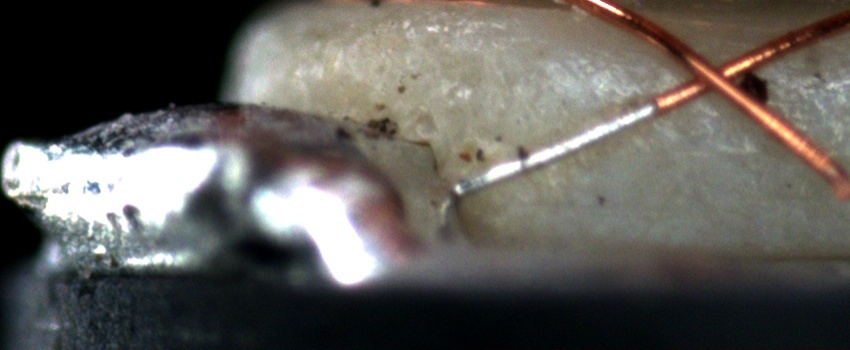CL: (667, 41, 762, 109)
DL: (550, 47, 850, 101), (619, 127, 784, 178)
TS: (449, 102, 657, 197)
